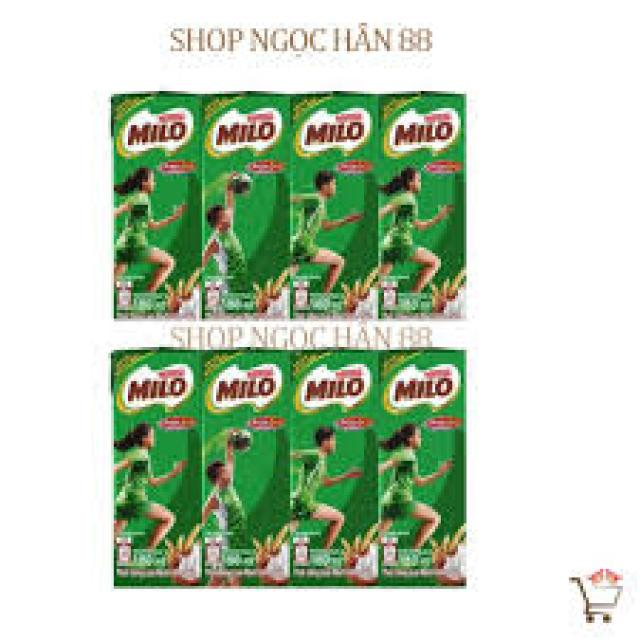sua milo: (104, 346, 204, 590), (102, 82, 203, 323), (378, 343, 470, 592), (286, 346, 378, 592), (201, 344, 293, 586), (289, 87, 380, 326), (199, 83, 290, 321), (380, 88, 470, 324)
